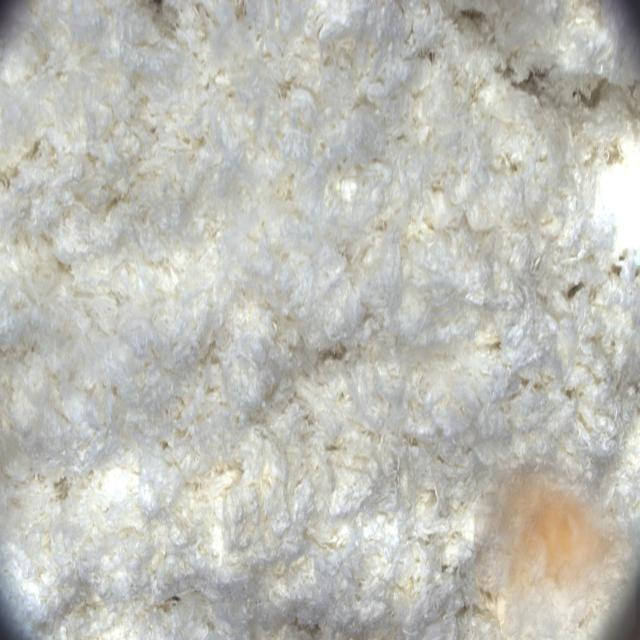dust: (474, 452, 635, 640)
